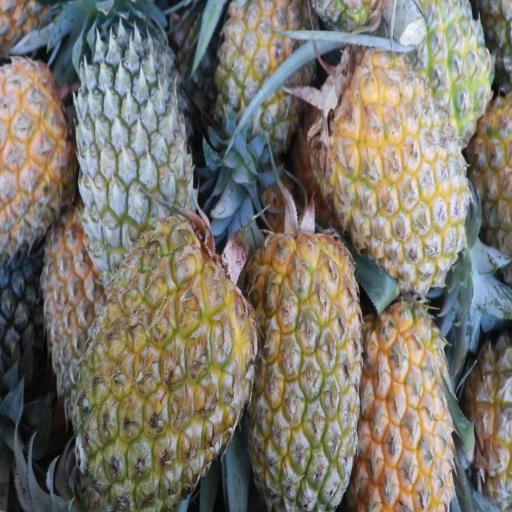------------------------------: (214, 0, 308, 149), (46, 211, 111, 390)
Pineapple - v8 v1: (79, 217, 250, 512), (244, 238, 358, 506), (331, 58, 462, 272), (358, 296, 449, 510), (0, 52, 75, 237)
